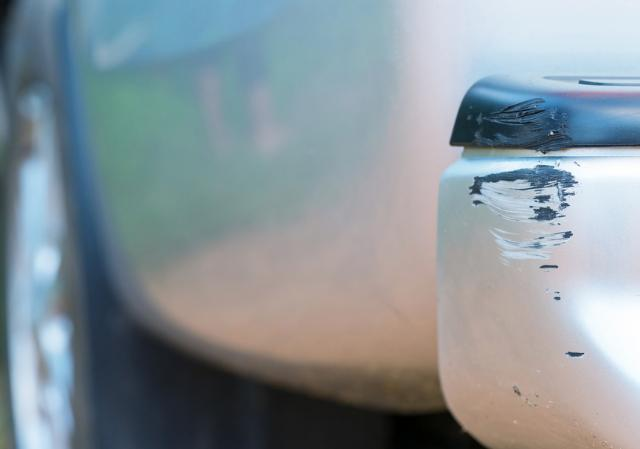Bumper: (400, 41, 640, 449)
